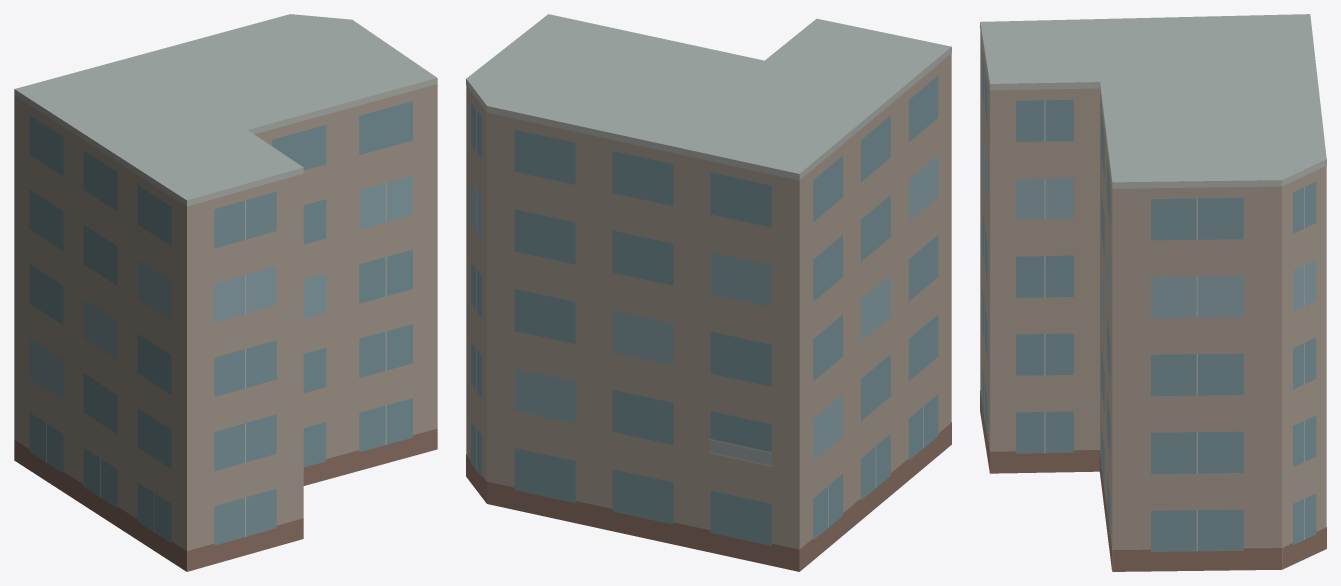
The model's file is survey-upis-32597169.glb.
The picture shows the model from 3 angles, left to right: view 1: azimuth 30°, elevation 25°; view 2: azimuth 150°, elevation 25°; view 3: azimuth 270°, elevation 25°; orthographic projection. The views are drawn at different scales.
Visible parts, largest first — view 1: survey-upis-32597169.tmp; view 2: survey-upis-32597169.tmp; view 3: survey-upis-32597169.tmp.
Boxes of the visible parts, x1=… form: survey-upis-32597169.tmp: x1=14, y1=14, x2=437, y2=571; survey-upis-32597169.tmp: x1=466, y1=14, x2=951, y2=571; survey-upis-32597169.tmp: x1=980, y1=14, x2=1326, y2=571.
Size of the model in its own units: 13.72 by 14.8 by 11.94.
